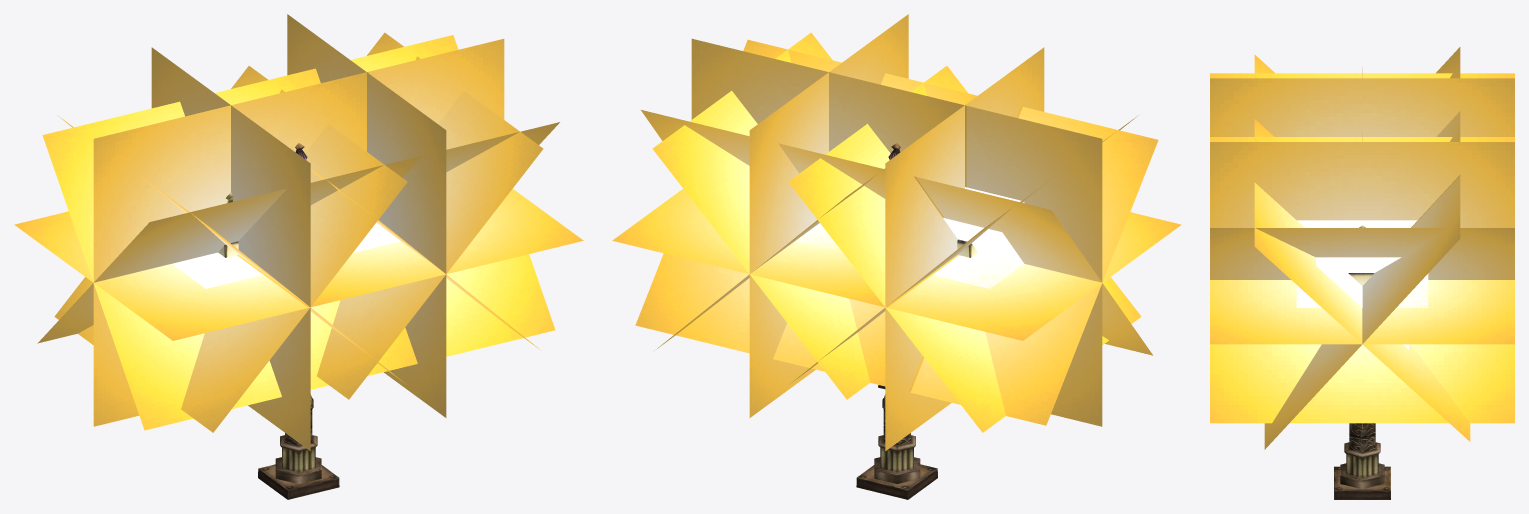
Rendered from a_SWElamp01.glb.
3 renders of one model, left to right at view 1: azimuth 30°, elevation 25°; view 2: azimuth 150°, elevation 25°; view 3: azimuth 270°, elevation 25°, orthographic. The views are drawn at different scales.
Visible parts, largest first — view 1: a_SWElamp01; view 2: a_SWElamp01; view 3: a_SWElamp01.
Part boxes in pixels (x1,y1,x2,y2): a_SWElamp01: (14, 14, 583, 499); a_SWElamp01: (612, 14, 1181, 499); a_SWElamp01: (1210, 47, 1514, 499).
Bounding box in the file's own units: 5.09 × 4.66 × 3.41.
5 materials, 5 textured.
